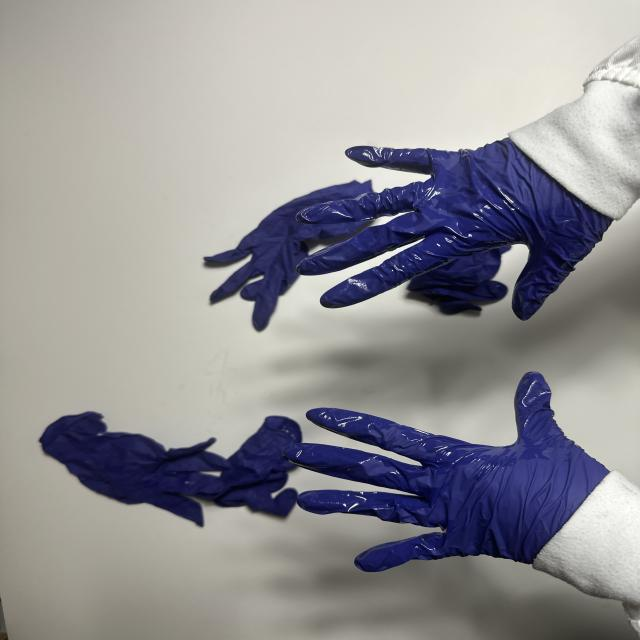gloves_contaminated: (284, 372, 606, 571), (298, 140, 610, 320)
